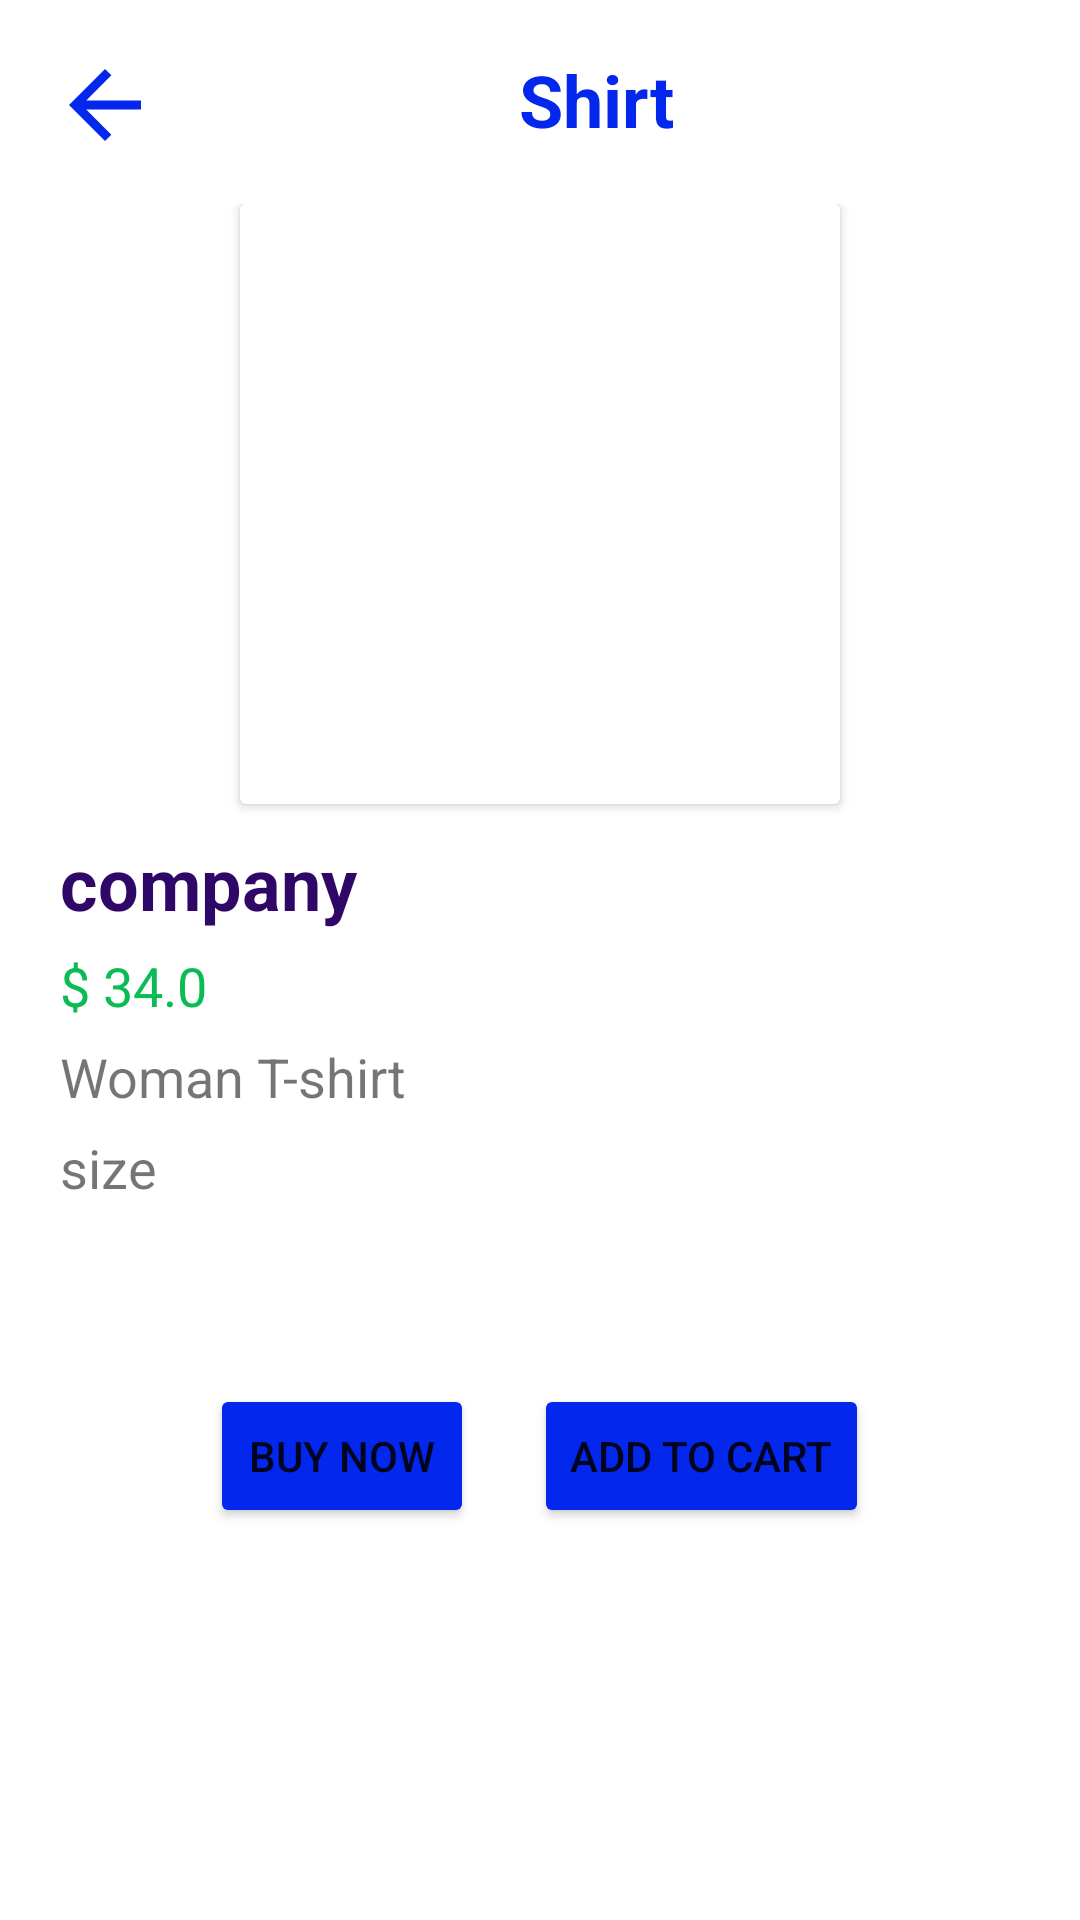

Icon click points for this 1080 x 1920 phone screenshot, format [x,y]:
arrow back: [105,105]
